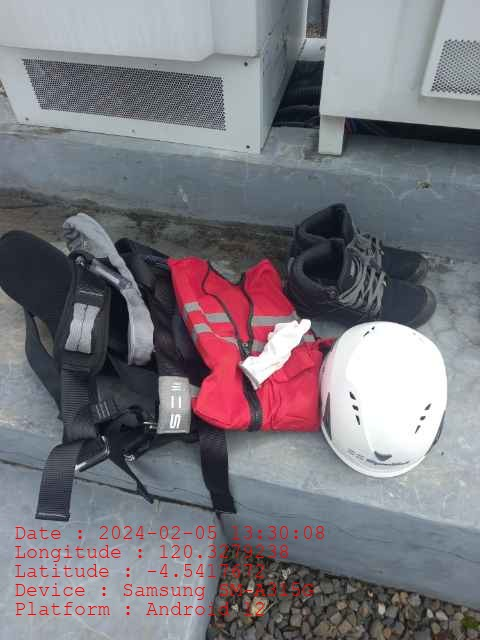HELM: (317, 321, 447, 478)
SEPATU: (287, 202, 435, 324)
